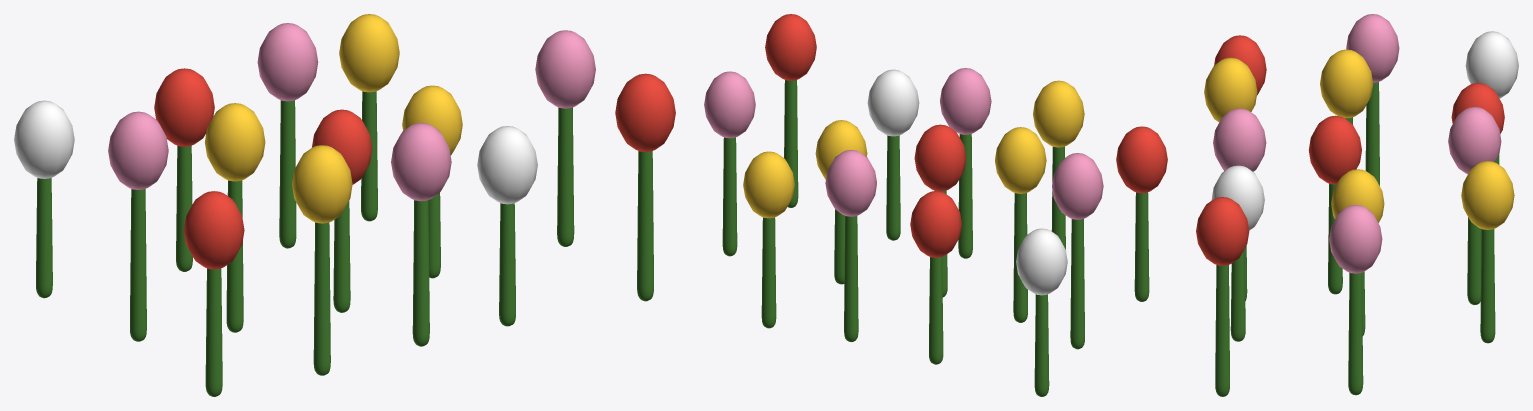
File: tulips.glb
The picture shows the model from 3 angles, left to right: view 1: azimuth 30°, elevation 25°; view 2: azimuth 150°, elevation 25°; view 3: azimuth 270°, elevation 25°; orthographic projection. The views are drawn at different scales.
Visible parts, largest first — view 1: blossom_9, blossom_1, blossom_0, blossom_10, blossom_12, blossom_5, blossom_6, blossom_3, blossom_13, blossom_4, blossom_2, blossom_11 (+16 smaller); view 2: blossom_13, blossom_6, blossom_10, blossom_1, blossom_0, blossom_4, blossom_7, blossom_9, blossom_12, blossom_5, blossom_11, blossom_2 (+15 smaller); view 3: blossom_4, blossom_9, blossom_13, blossom_6, blossom_7, blossom_2, blossom_12, blossom_10, blossom_1, blossom_5, blossom_3, trunk_4 (+9 smaller).
Part boxes in pixels (x1=…): blossom_9: x1=535, y1=30, x2=595, y2=108; blossom_1: x1=292, y1=145, x2=352, y2=223; blossom_0: x1=184, y1=191, x2=244, y2=269; blossom_10: x1=14, y1=100, x2=74, y2=178; blossom_12: x1=257, y1=23, x2=318, y2=101; blossom_5: x1=108, y1=111, x2=168, y2=189; blossom_6: x1=204, y1=103, x2=265, y2=181; blossom_3: x1=477, y1=126, x2=537, y2=204; blossom_13: x1=339, y1=14, x2=399, y2=92; blossom_4: x1=615, y1=73, x2=675, y2=151; blossom_2: x1=391, y1=123, x2=451, y2=201; blossom_11: x1=154, y1=68, x2=214, y2=146; blossom_13: x1=743, y1=151, x2=794, y2=218; blossom_6: x1=995, y1=127, x2=1046, y2=193; blossom_10: x1=1016, y1=228, x2=1067, y2=295; blossom_1: x1=1033, y1=80, x2=1084, y2=147; blossom_0: x1=1116, y1=126, x2=1167, y2=193; blossom_4: x1=765, y1=14, x2=816, y2=80; blossom_7: x1=914, y1=124, x2=966, y2=191; blossom_9: x1=704, y1=71, x2=755, y2=138; blossom_12: x1=825, y1=150, x2=876, y2=216; blossom_5: x1=1052, y1=153, x2=1103, y2=219; blossom_11: x1=910, y1=191, x2=961, y2=257; blossom_2: x1=940, y1=68, x2=991, y2=134; blossom_4: x1=1196, y1=197, x2=1249, y2=265; blossom_9: x1=1329, y1=204, x2=1382, y2=273; blossom_13: x1=1461, y1=161, x2=1514, y2=229; blossom_6: x1=1320, y1=49, x2=1373, y2=118; blossom_7: x1=1308, y1=115, x2=1361, y2=184; blossom_2: x1=1213, y1=108, x2=1266, y2=171; blossom_12: x1=1448, y1=107, x2=1501, y2=174; blossom_10: x1=1465, y1=31, x2=1518, y2=98; blossom_1: x1=1204, y1=57, x2=1257, y2=122; blossom_5: x1=1346, y1=14, x2=1399, y2=82; blossom_3: x1=1211, y1=165, x2=1264, y2=230; trunk_4: x1=1215, y1=265, x2=1229, y2=396.
Size of the model in its own units: 1.52 by 0.6626 by 0.9688.
